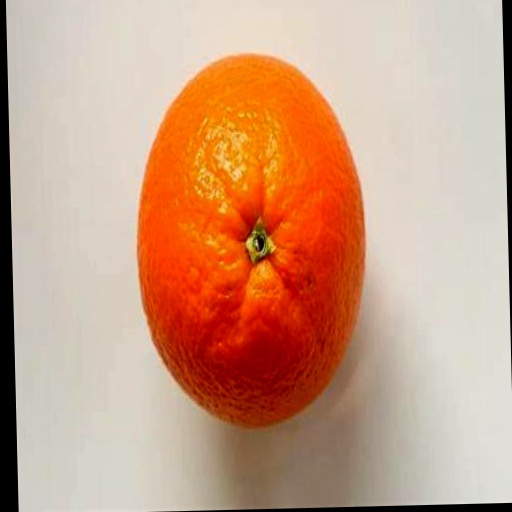fruit: (138, 55, 364, 425)
